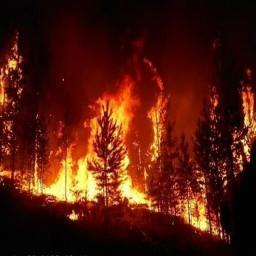Low smoke: (19, 36, 245, 162)
Small fire: (8, 71, 255, 252)
